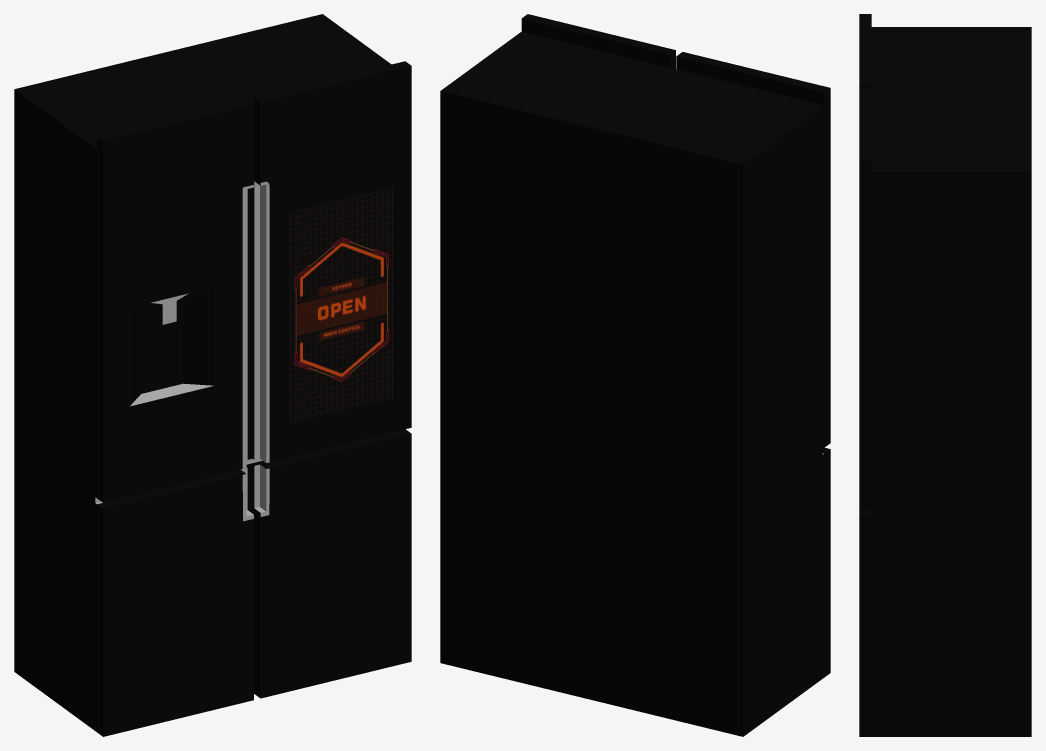
The model's file is Fridgeator.fbx.
3 renders of one model, left to right at view 1: azimuth 30°, elevation 25°; view 2: azimuth 150°, elevation 25°; view 3: azimuth 270°, elevation 25°, orthographic. The views are drawn at different scales.
Parts seen in each view (by area): view 1: Cube.021; view 2: Cube.021; view 3: Cube.021.
Part boxes in pixels (x1,y1,x2,y2): Cube.021: [14, 14, 411, 736]; Cube.021: [440, 14, 830, 736]; Cube.021: [859, 14, 1031, 736].
Bounding box in the file's own units: 200 × 369 × 99.9.
